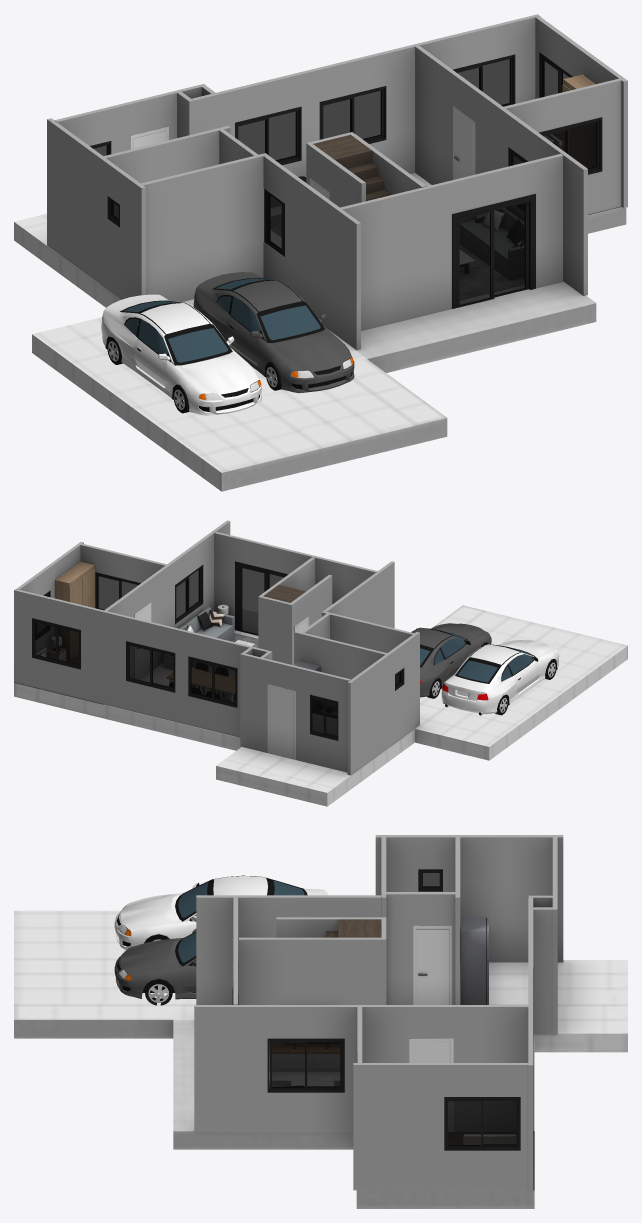
The model's file is Room_02.gltf.
3 views of the same model, one above another, from view 1: azimuth 30°, elevation 25°; view 2: azimuth 150°, elevation 25°; view 3: azimuth 270°, elevation 25° (orthographic). The views are drawn at different scales.
Parts seen in each view (by area): view 1: Wall1, floor, glass13, Car_1.002, Car_1.001, Black_mat, White_mat, Sofa_Sofa, stairs4, carped13, wardrobe_03; view 2: Wall1, floor, glass13, Car_1.002, Black_mat, White_mat, Car_1.001, wardrobe_03, Sofa_Sofa, Top_Table, stairs4; view 3: Wall1, floor, glass13, White_mat, Car_1.002, Car_1.001, Black_mat, IRON, stairs4, Table8.
Boxes of the visible parts, box(x1,y1,x2,y2) form: Wall1: box(47, 14, 627, 350); floor: box(14, 173, 626, 491); glass13: box(93, 59, 597, 305); Car_1.002: box(101, 294, 261, 415); Car_1.001: box(193, 272, 354, 393); Black_mat: box(90, 52, 602, 308); White_mat: box(130, 106, 561, 231); Sofa_Sofa: box(460, 208, 524, 280); stairs4: box(313, 135, 390, 201); carped13: box(271, 214, 524, 299); wardrobe_03: box(562, 74, 595, 167); Wall1: box(14, 520, 419, 775); floor: box(14, 605, 627, 806); glass13: box(35, 568, 400, 736); Car_1.002: box(441, 639, 559, 715); Black_mat: box(32, 561, 404, 740); White_mat: box(36, 602, 336, 759); Car_1.001: box(411, 623, 491, 698); wardrobe_03: box(55, 561, 95, 659); Sofa_Sofa: box(179, 607, 234, 666); Top_Table: box(167, 668, 234, 694); stairs4: box(263, 585, 332, 604); Wall1: box(194, 835, 563, 1190); floor: box(14, 910, 627, 1208); glass13: box(272, 873, 516, 1146); White_mat: box(269, 925, 516, 1136); Car_1.002: box(114, 875, 328, 949); Car_1.001: box(114, 928, 196, 1005); Black_mat: box(232, 869, 533, 1150); IRON: box(418, 916, 488, 1004); stairs4: box(238, 919, 380, 1004); Table8: box(269, 1045, 339, 1053).
Size of the model in its own units: 13.41 by 3.21 by 12.44.
Materials: 27 (15 with a texture image).
